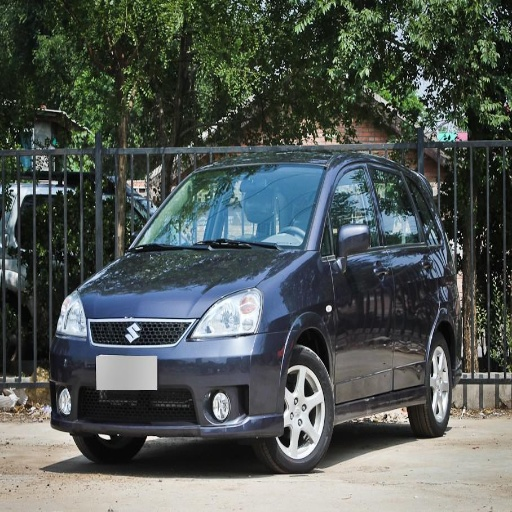front_bumper: (52, 295, 288, 438)
front_glass: (132, 164, 328, 250)
front_left_door: (327, 161, 394, 401)
